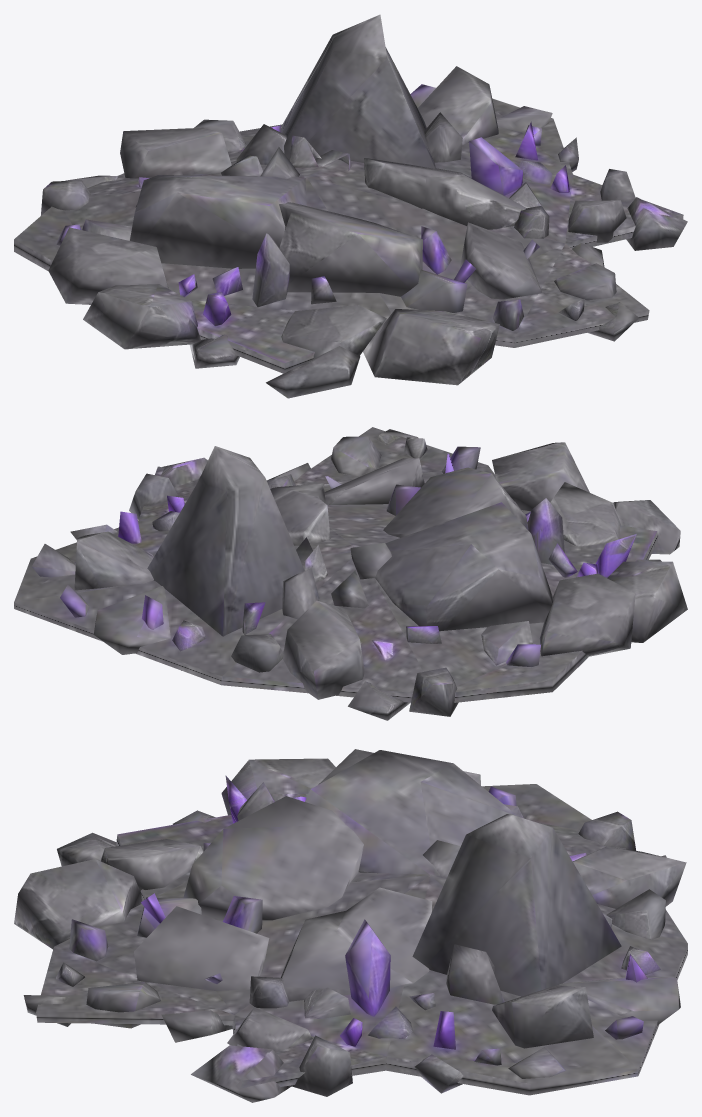
Rendered from vein_scree_2.glb.
3 views of the same model, one above another, from view 1: azimuth 30°, elevation 25°; view 2: azimuth 150°, elevation 25°; view 3: azimuth 270°, elevation 25° (orthographic). The views are drawn at different scales.
Parts seen in each view (by area): view 1: kit-vein-scree-2; view 2: kit-vein-scree-2; view 3: kit-vein-scree-2.
Boxes of the visible parts, x1,y1,x2,y2 form: kit-vein-scree-2: (14,14,687,398); kit-vein-scree-2: (14,427,687,720); kit-vein-scree-2: (14,749,687,1102).
Bounding box in the file's own units: 2.6 × 0.8607 × 2.48.
Materials: 1 (1 with a texture image).
